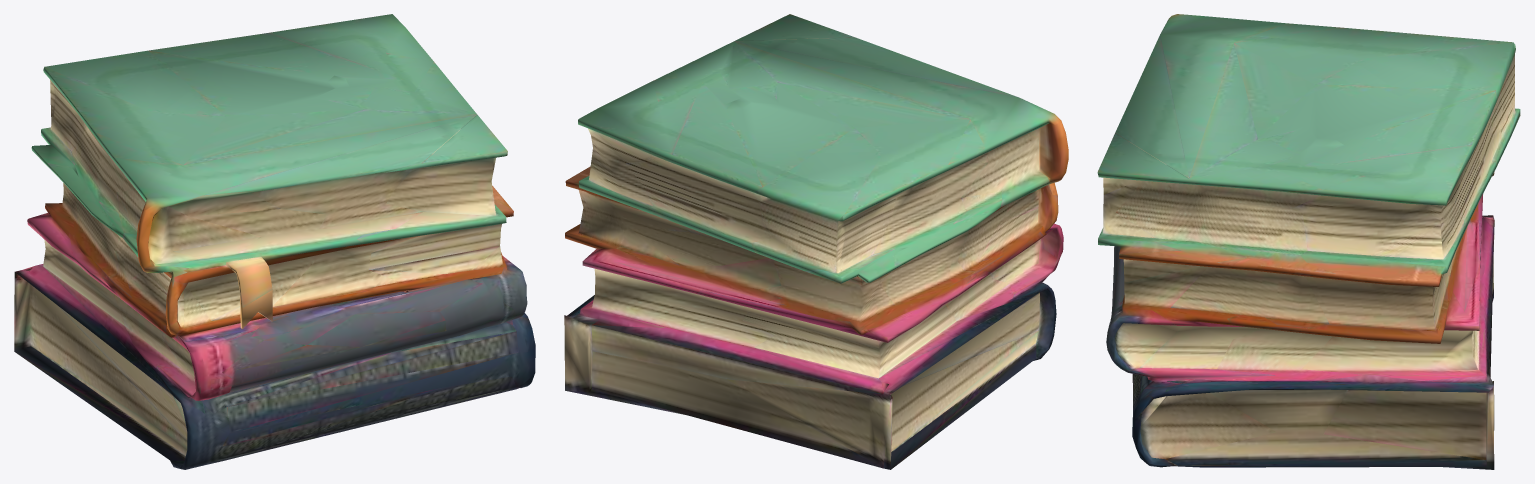
The model's file is book_stack.glb.
3 renders of one model, left to right at view 1: azimuth 30°, elevation 25°; view 2: azimuth 150°, elevation 25°; view 3: azimuth 270°, elevation 25°, orthographic. The views are drawn at different scales.
Bounding box in the file's own units: 1.9 × 1.22 × 1.68.
1 material, 1 textured.
